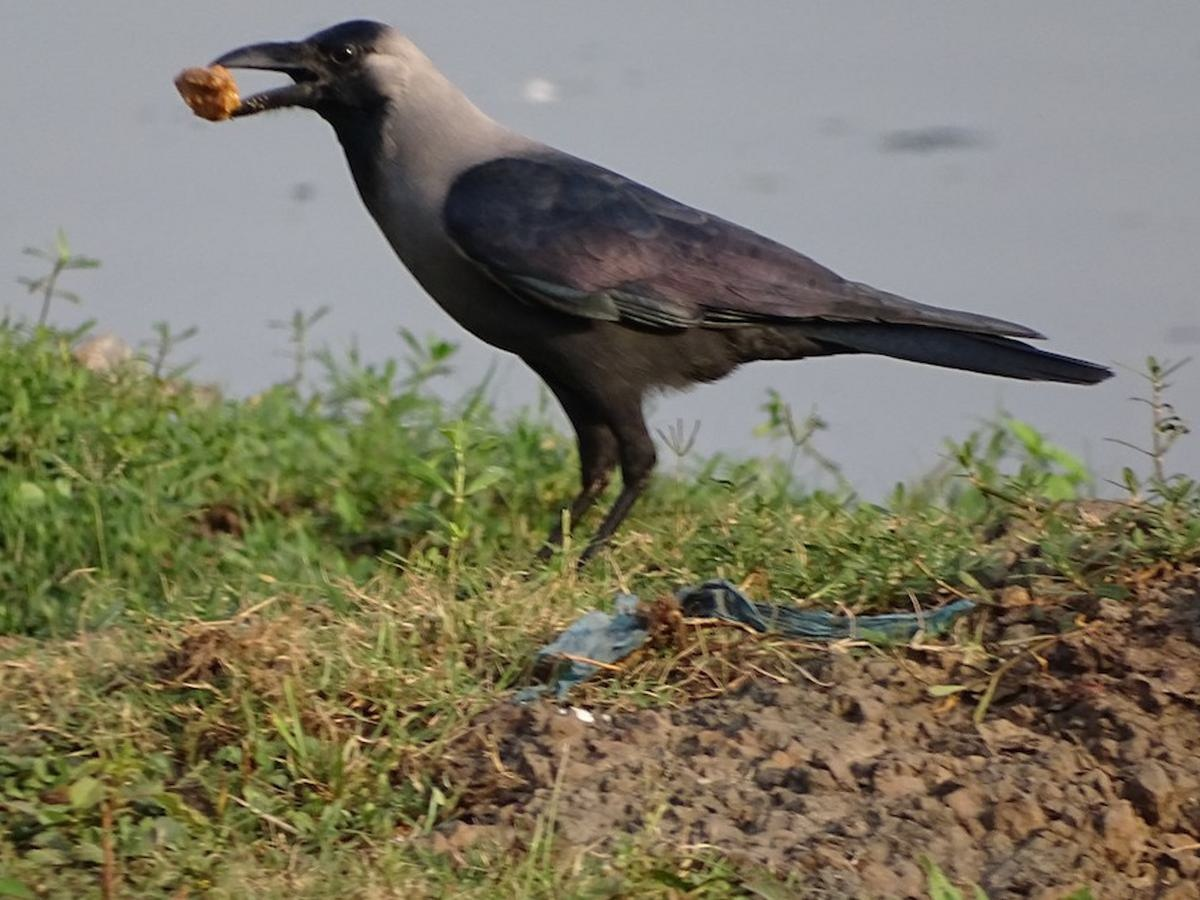crow: (177, 16, 1149, 575)
